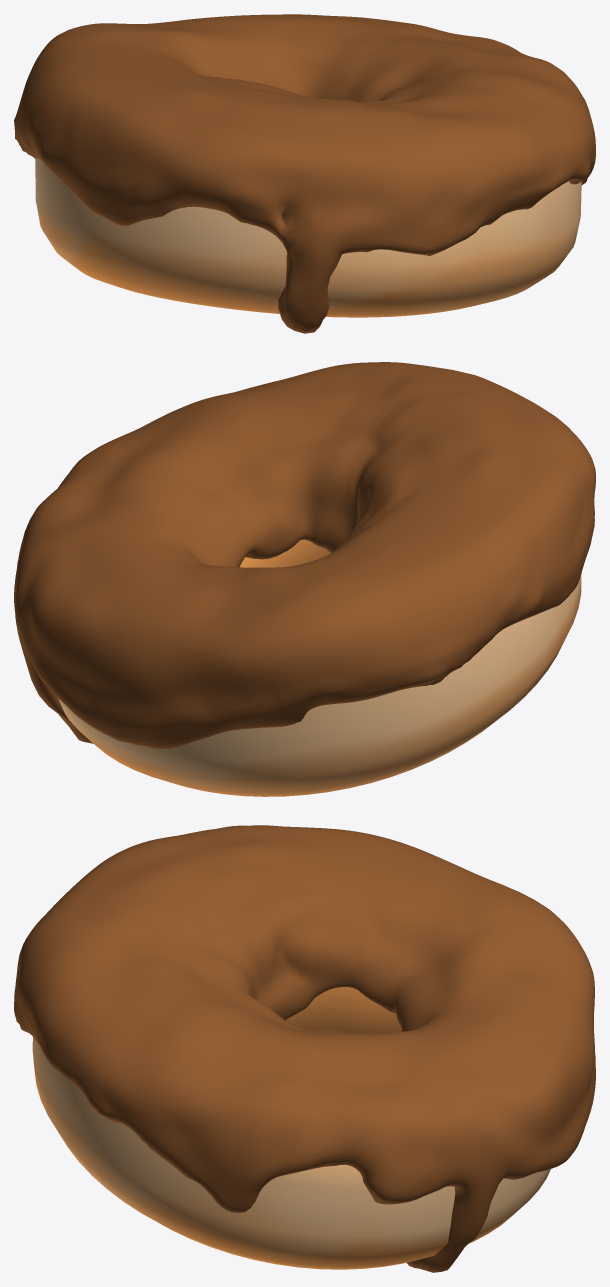
File: donut.glb
3 renders of one model, top to bottom at view 1: azimuth 30°, elevation 25°; view 2: azimuth 150°, elevation 25°; view 3: azimuth 270°, elevation 25°, orthographic. The views are drawn at different scales.
Parts seen in each view (by area): view 1: icing.006, Brown Donut; view 2: icing.006, Brown Donut; view 3: icing.006, Brown Donut.
Boxes of the visible parts, x1,y1,x2,y2 form: icing.006: [14, 14, 595, 333]; Brown Donut: [35, 157, 581, 317]; icing.006: [14, 362, 595, 749]; Brown Donut: [58, 539, 581, 796]; icing.006: [14, 825, 595, 1272]; Brown Donut: [32, 987, 550, 1269].
Size of the model in its own units: 0.1323 by 0.072 by 0.1335.
Materials: 2 (1 with a texture image).
